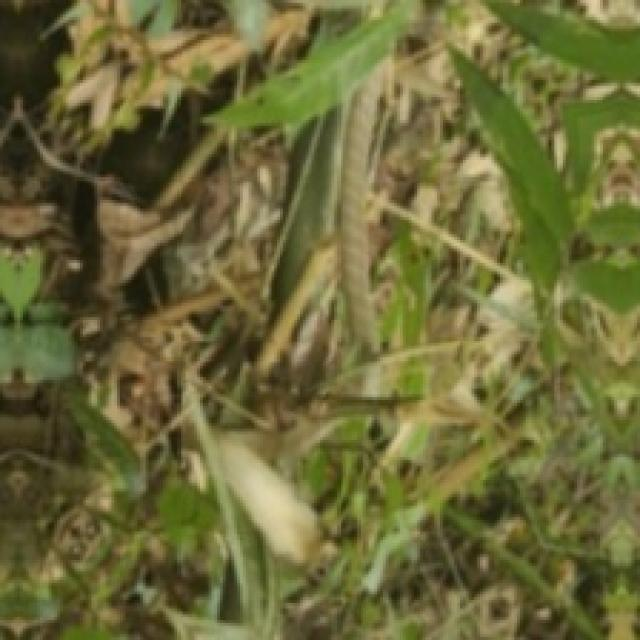king cobra: (220, 60, 388, 566)
